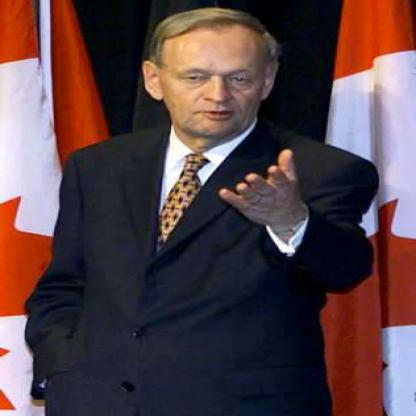face: (162, 11, 270, 138)
